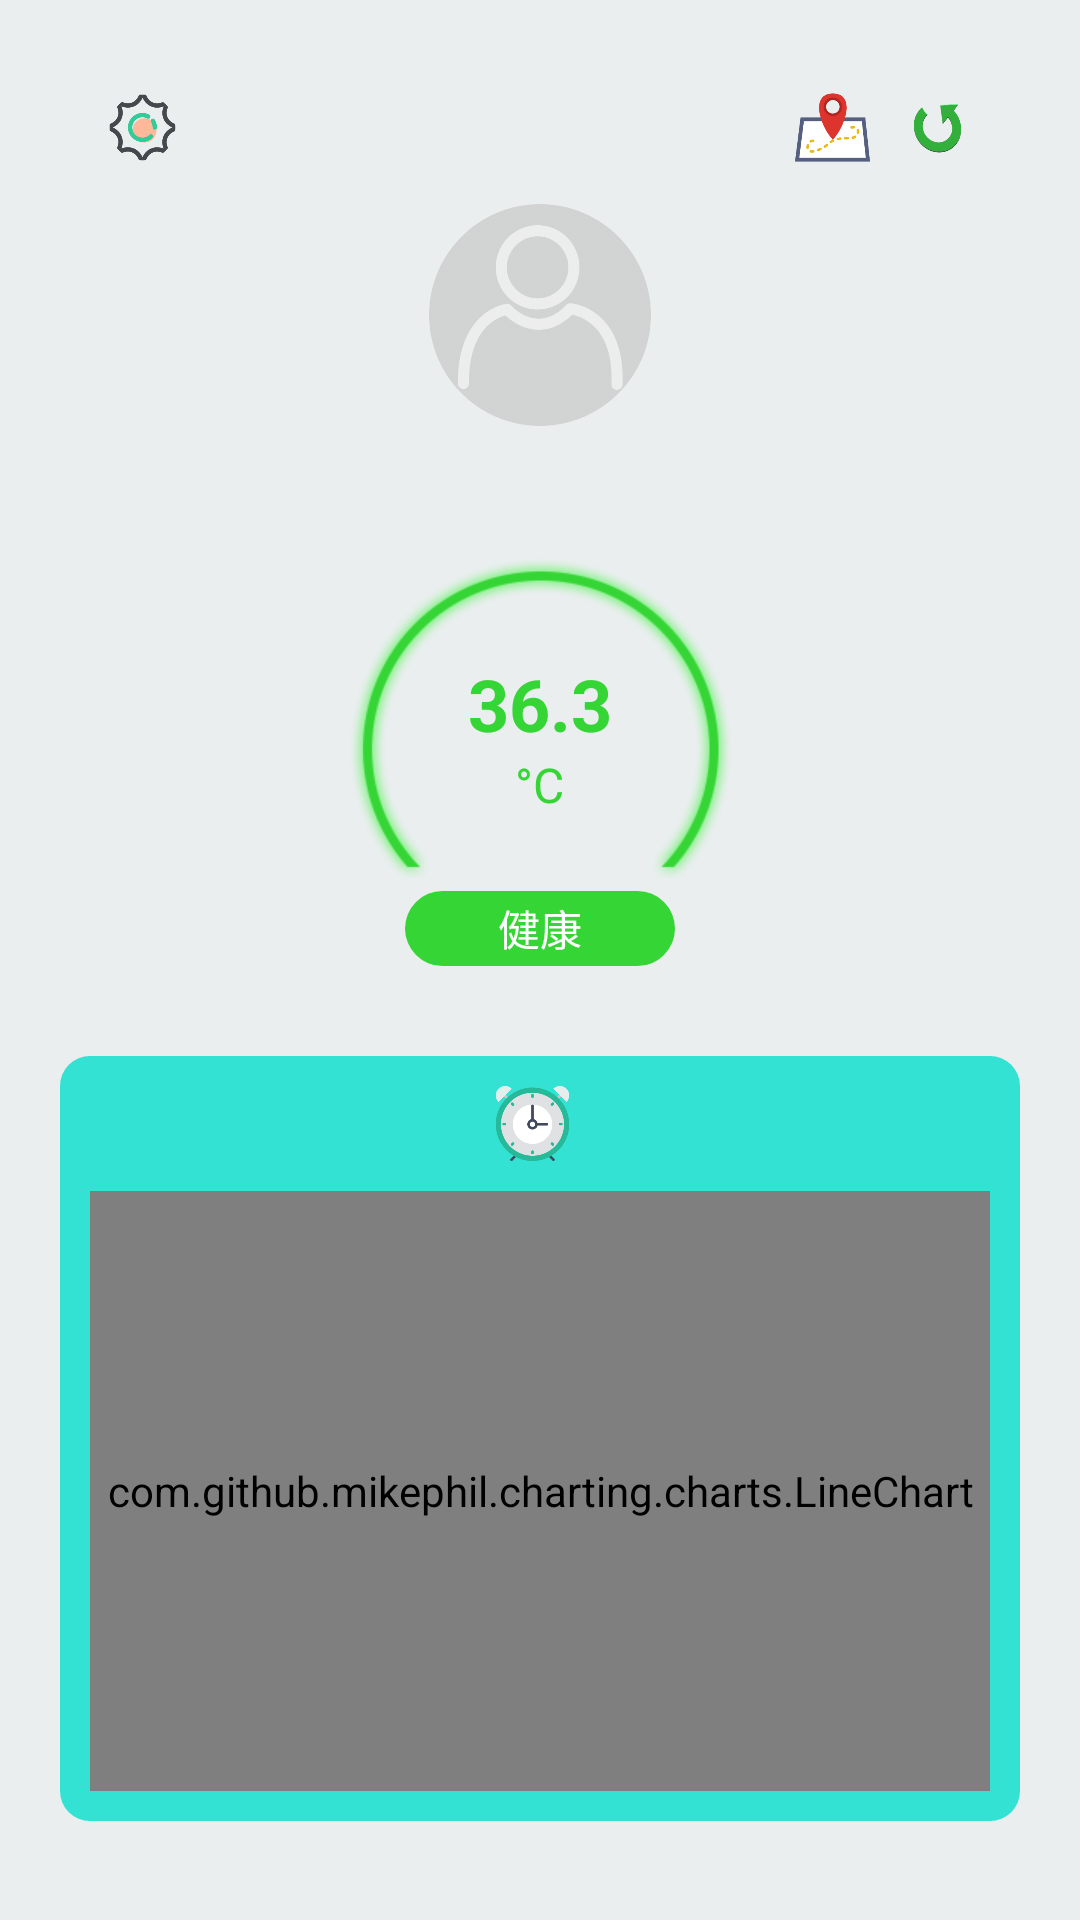

Locate icon controls on the screen. Image size 1080×1920, boxes as (x1, y1, x2, y2).
clock: (496, 1086, 569, 1161)
login user: (429, 204, 651, 426)
map: (795, 93, 870, 162)
refresh: (914, 104, 961, 153)
setting: (109, 94, 176, 161)
